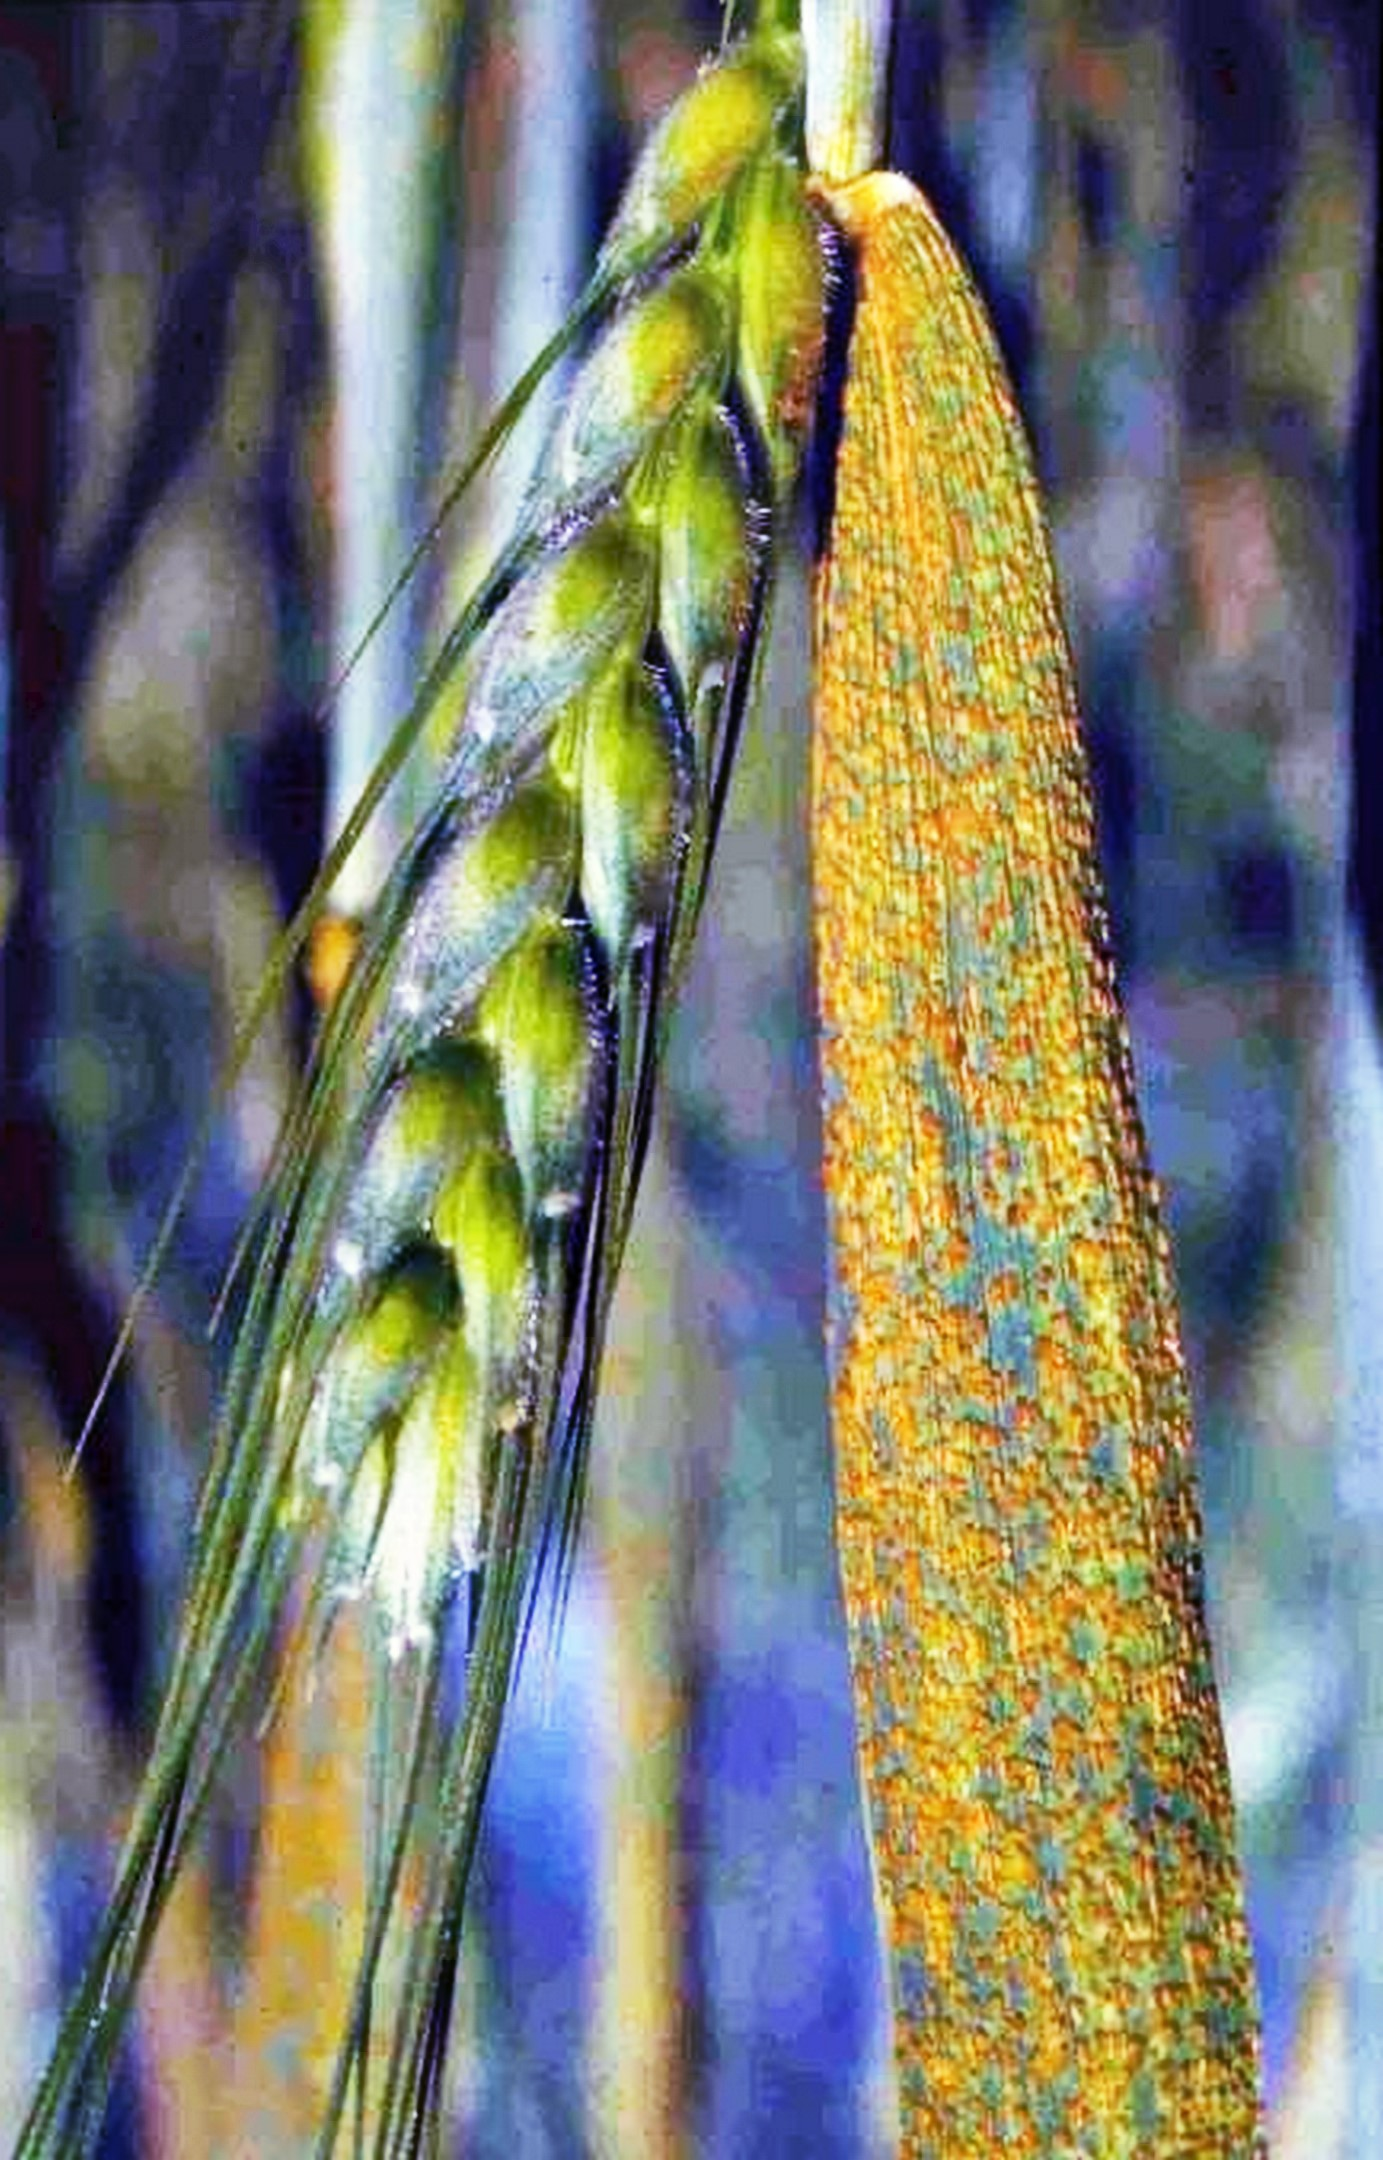Leaf Rust: (773, 302, 1266, 2147)
